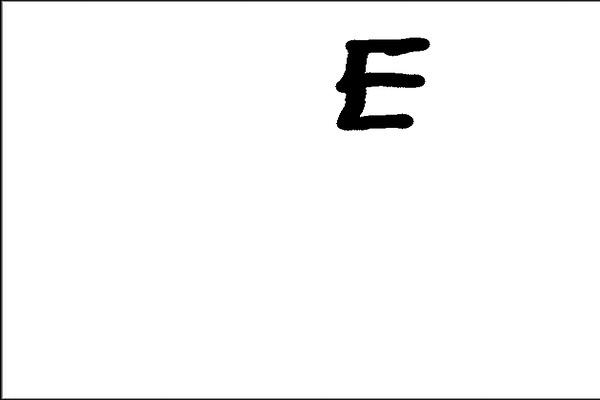E: (330, 30, 432, 133)
